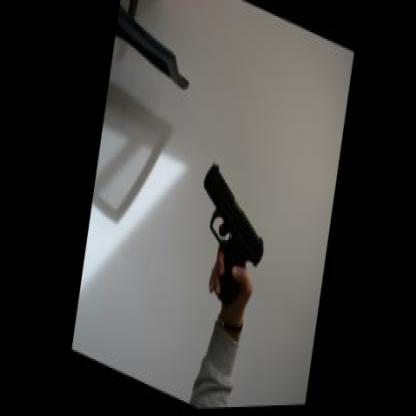pistol: (184, 156, 272, 322)
